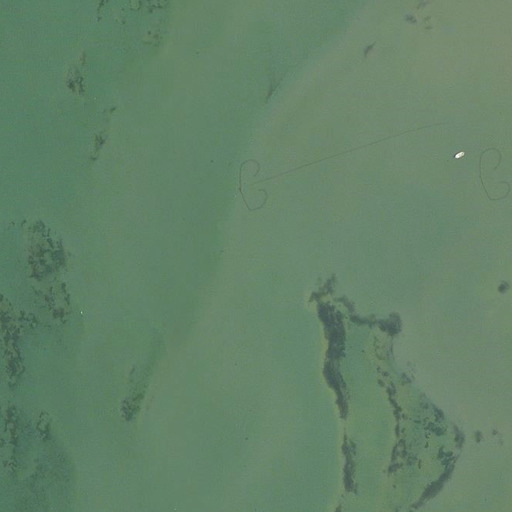ship: (455, 151, 464, 159)
